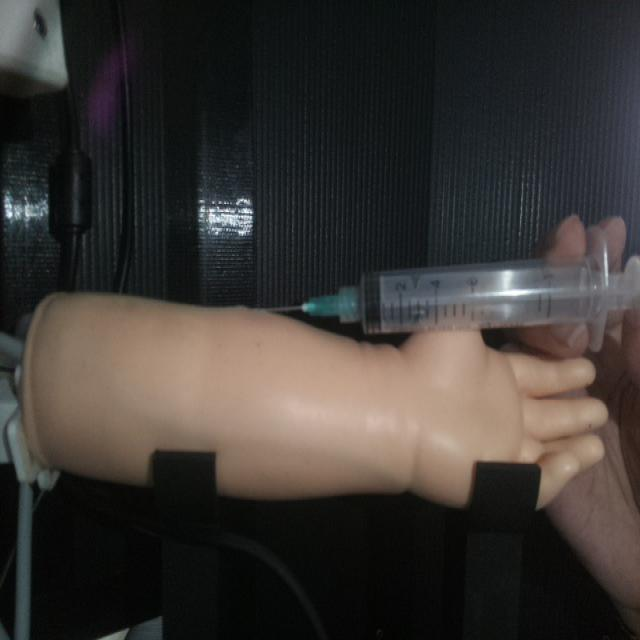Outside: (263, 236, 638, 348)
